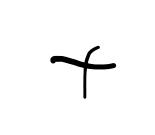plus: (50, 45, 116, 99)
